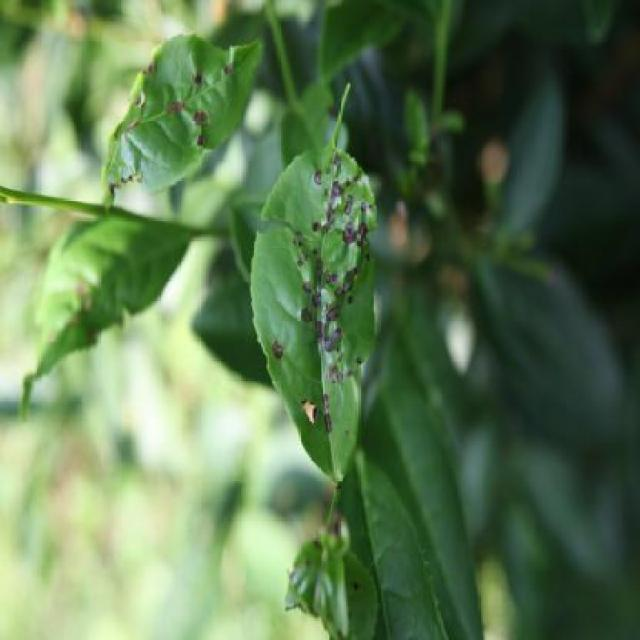Tea Mosquito bug infested leaf: (240, 135, 400, 503), (106, 26, 252, 242)
